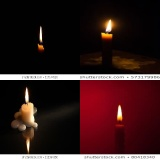fire: (115, 104, 124, 121), (103, 19, 113, 33), (38, 25, 43, 43), (24, 87, 29, 103)
